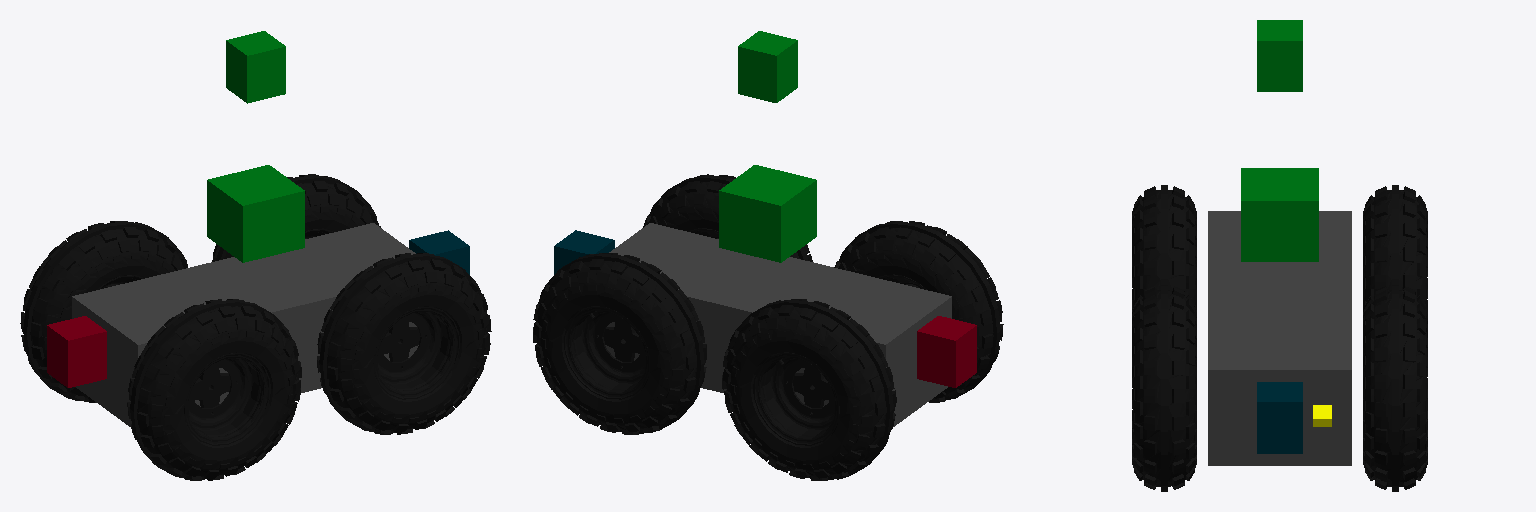
The robot description file, URDF, robot "teo":
<!--
~~~~~~~~~~~~~~~~~~~~~~~~~~~~~~~~~~~~~~~~~~~~~~~~~~~~~~~~~~~~~~~~~~~~~~~~~~~~~~~~
          TEO ROBOT URDF MODEL
~~~~~~~~~~~~~~~~~~~~~~~~~~~~~~~~~~~~~~~~~~~~~~~~~~~~~~~~~~~~~~~~~~~~~~~~~~~~~~~~
          Institut de Robotica i Informatica Industrial (IRI) UPC-CSIC
          author: mmorta
~~~~~~~~~~~~~~~~~~~~~~~~~~~~~~~~~~~~~~~~~~~~~~~~~~~~~~~~~~~~~~~~~~~~~~~~~~~~~~~~
  units: [m], [rad] (SI)
  constants:
  pi   = 3.14159
  pi/2 = 1.57079

  Basic Transformation Pro Engineer to URDF (If no coordinates changed)
    <origin xyz="0 0 0" rpy="1.57079 0 0"/>

  Basic Transformation SolidWorks to URDF
    <origin xyz="0 0 0" rpy="1.57079 0 0"/>
 -->

<robot name="teo"
    xmlns:sensor="http://playerstage.sourceforge.net/gazebo/xmlschema/#sensor"
    xmlns:controller="http://playerstage.sourceforge.net/gazebo/xmlschema/#controller"
    xmlns:interface="http://playerstage.sourceforge.net/gazebo/xmlschema/#interface">

<!-- BODY FOOTPRINT -->
  <!-- link -->
  <link name="base_footprint">
    <visual>
      <origin xyz="0 0 0" rpy="0 0 0"/>
      <geometry>
        <box size="0.01 0.01 0.01"/>
      </geometry>
    </visual>
<!-- gazebo (inertia, collision, material)-->
    <inertial>
      <origin xyz="0 0 0"/>
      <mass value="0.01" />
      <inertia  ixx="0.01" ixy="0.0"  ixz="0.0"  iyy="0.01"  iyz="0.0"  izz="0.01"/>
    </inertial>
    <collision>
      <!-- it has to be the same origin as the visual origin-->
      <origin xyz="0 0 0"/>
      <geometry>
        <!-- box containing the model -->
        <box size="0.01 0.01 0.01"/>
      </geometry>
    </collision>
  </link>


<!-- BODY
      a coordinates center has been added in the CAD model in order to not have
      to change rpy (ref_teo). It is in the middle of the model except the Z
      which is in the wheels' axes' Z
-->
  <!-- joint -->
  <joint name="base_footprint2base_link" type="fixed" >
    <parent link="base_footprint"/>
    <child link="base_link"/>
    <origin xyz="0 0 0.2667" rpy="0 0 0"/>
  </joint>
  <!-- link -->
  <link name="base_link">
    <visual>
      <origin xyz="0 0 0" rpy="0 0 3.14159"/>
      <geometry>
        <box size="0.97 0.37 0.27"/>
      </geometry>
      <material name="grey">
        <color rgba="0.3 0.3 .3 0.5"/>
      </material>
    </visual>
    <!-- gazebo (inertia, collision, material)-->
    <inertial>
      <origin xyz="0 0 0"/>
      <mass value="100.0" />
      <inertia  ixx="1.748" ixy="0.0"  ixz="0.0"  iyy="8.448"  iyz="0.0"  izz="8.982"/>
    </inertial>
    <collision>
      <!-- it has to be the same origin as the visual origin-->
      <origin xyz="0 0 0.1"/>
      <geometry>
        <!-- leaving some space extra -->
        <box size="1.40 0.45 0.5"/>
      </geometry>
      <material name="red">
        <color rgba="0.8 0.1 .1 0.5"/>
      </material>
    </collision>
  </link>
  <gazebo reference="body">
    <material>PR2/Grey3</material>
  </gazebo>

<!-- WHEEL FRONT LEFT
      It is already rotated in the real CAD file, so the rotation is not
      automatic.
      It is centered in 0, so its joint needs an offset XYZ
-->
  <!-- joint -->
  <joint name="base_link2wheel_fl" type="continuous" >
    <parent link="base_link"/>
    <child link="wheel_fl"/>
    <origin xyz="0.3039 0.2857 0.0" rpy="0 0 0"/>
    <axis xyz="0 1 0" />
  </joint>
  <!-- link -->
  <link name="wheel_fl">
    <visual>
      <origin xyz="0 0 0" rpy="0 0 0 "/>
      <geometry>
        <mesh filename="package://teo_base/model/meshes/rmp400_wheel_m.stl" />
      </geometry>
      <material name="dark_grey">
        <color rgba="0.1 0.1 0.1 1"/>
      </material>
    </visual>
    <inertial>
      <mass value="3.0" />
      <inertia  ixx="0.0529" ixy="0.0"  ixz="0.0"  iyy="0.09375"  iyz="0.0"  izz="0.0529"/>
    </inertial>
    <collision>
      <geometry>
        <cylinder length="0.20" radius="0.28"/>
      </geometry>
    </collision>
  </link>
  <gazebo reference="wheel_fl">
    <material>Gazebo/Black</material>
  </gazebo>

<!-- WHEEL FRONT RIGHT -->
  <!-- joint -->
  <joint name="base_link2wheel_fr" type="continuous" >
    <parent link="base_link"/>
    <child link="wheel_fr"/>
    <origin xyz="0.3039 -0.2857 0.0" rpy="0 0 3.14159"/>
    <axis xyz="0 1 0" />
  </joint>
  <!-- link -->
  <link name="wheel_fr">
    <visual>
      <origin xyz="0 0 0" rpy="0 0 0 "/>
      <geometry>
        <mesh filename="package://teo_base/model/meshes/rmp400_wheel_m.stl" />
      </geometry>
      <material name="dark_grey">
        <color rgba="0.1 0.1 0.1 1"/>
      </material>
    </visual>
    <inertial>
      <mass value="3.0" />
      <inertia  ixx="0.0529" ixy="0.0"  ixz="0.0"  iyy="0.09375"  iyz="0.0"  izz="0.0529"/>
    </inertial>
    <collision>
      <origin xyz="0 0 0" rpy="1.57079 0 0"/>
      <geometry>
        <cylinder length="0.20" radius="0.28"/>
      </geometry>
    </collision>
  </link>
  <gazebo reference="wheel_fr">
    <material>Gazebo/Black</material>
  </gazebo>

<!-- WHEEL BACK LEFT -->
  <!-- joint -->
  <joint name="base_link2wheel_bl" type="continuous" >
    <parent link="base_link"/>
    <child link="wheel_bl"/>
    <origin xyz="-0.3039 0.2857 0.0" rpy="0 0 0"/>
    <axis xyz="0 1 0" />
  </joint>
  <!-- link -->
  <link name="wheel_bl">
    <visual>
      <origin xyz="0 0 0" rpy="0 0 0 "/>
      <geometry>
        <mesh filename="package://teo_base/model/meshes/rmp400_wheel_m.stl" />
      </geometry>
      <material name="dark_grey">
        <color rgba="0.1 0.1 0.1 1"/>
      </material>
    </visual>
    <inertial>
      <mass value="3.0" />
      <inertia  ixx="0.0529" ixy="0.0"  ixz="0.0"  iyy="0.09375"  iyz="0.0"  izz="0.0529"/>
    </inertial>
    <collision>
      <origin xyz="0 0 0" rpy="1.57079 0 0"/>
      <geometry>
        <cylinder length="0.20" radius="0.28"/>
      </geometry>
    </collision>
  </link>
  <gazebo reference="wheel_bl">
    <material>Gazebo/Black</material>
  </gazebo>

<!-- WHEEL BACK RIGHT -->
  <!-- joint -->
  <joint name="base_link2wheel_br" type="continuous" >
    <parent link="base_link"/>
    <child link="wheel_br"/>
    <origin xyz="-0.3039 -0.2857 0.0" rpy="0 0 3.14159"/>
    <axis xyz="0 1 0" />
  </joint>
  <!-- link -->
  <link name="wheel_br">
    <visual>
      <origin xyz="0 0 0" rpy="0 0 0 "/>
      <geometry>
        <mesh filename="package://teo_base/model/meshes/rmp400_wheel_m.stl" />
      </geometry>
      <material name="dark_grey">
        <color rgba="0.1 0.1 0.1 1"/>
      </material>
    </visual>
    <inertial>
      <mass value="3.0" />
      <inertia  ixx="0.0529" ixy="0.0"  ixz="0.0"  iyy="0.09375"  iyz="0.0"  izz="0.0529"/>
    </inertial>
    <collision>
      <origin xyz="0 0 0" rpy="1.57079 0 0"/>
      <geometry>
        <cylinder length="0.20" radius="0.28"/>
      </geometry>
    </collision>
  </link>
  <gazebo reference="wheel_br">
    <material>Gazebo/Black</material>
  </gazebo>


  <!-- FRONT LASER-->
  <!-- joint -->
  <joint name="base_link2front_laser" type="fixed" >
    <parent link="base_link"/>
    <child link="front_laser"/>
    <!--
    x = 0.435 (long box=0.870) + 0.155 (position in frame)
    y = 0
    z = 0.05 (laser position, cc_teo->bottom laser)
    -->
    <origin xyz="0.590 0 0.05" rpy="0 0 0"/>
  </joint>
  <!-- link -->
  <link name="front_laser">
    <visual>
      <!-- from STL origin to real sensor origin 0.0625-->
      <origin xyz="0 0 0" rpy="0 0 0"/>
      <geometry>
        <box size="0.125 0.120 0.146"/>
      </geometry>
      <material name="blue_navy">
        <color rgba="0.0 0.2 0.25 0.5"/>
      </material>
    </visual>
    <inertial>
      <mass value="0.800" />
      <inertia  ixx="0.00238" ixy="0.0"  ixz="0.0"  iyy="0.00246"  iyz="0.0"  izz="0.00200"/>
    </inertial>
    <collision>
      <origin xyz="0 0 0" rpy="0 0 0"/>
      <geometry>
        <box size="0.125 0.120 0.146"/>
      </geometry>
    </collision>
  </link>
  <gazebo reference="front_laser">
    <material>Gazebo/Blue</material>
  </gazebo>


  <!-- REAR LASER-->
  <!-- joint -->
  <joint name="base_link2rear_laser" type="fixed" >
    <parent link="base_link"/>
    <child link="rear_laser"/>
    <!--
    x = 0.435 (long box=0.870) + 0.95 (position in frame)
    y = 0
    z = 0.06 (laser position, cc_teo->bottom laser)
    -->
    <origin xyz="-0.575 0 0.06" rpy="0 0 3.14159"/>
  </joint>
  <!-- link -->
  <link name="rear_laser">
    <visual>
      <!-- from STL origin to real sensor origin -->
      <origin xyz="0 0 0" rpy="0 0 0"/>
      <geometry>
        <box size="0.125 0.120 0.146"/>
      </geometry>
      <material name="red_navy">
        <color rgba="0.5 0.0 0.1 0.5"/>
      </material>
    </visual>
    <inertial>
      <mass value="0.800" />
      <inertia  ixx="0.00238" ixy="0.0"  ixz="0.0"  iyy="0.00246"  iyz="0.0"  izz="0.00200"/>
    </inertial>
    <collision>
      <origin xyz="0 0 0" rpy="0 0 0"/>
      <geometry>
        <box size="0.125 0.120 0.146"/>
      </geometry>
    </collision>
  </link>
  <gazebo reference="rear_laser">
    <material>Gazebo/Red</material>
  </gazebo>


  <!-- H3D LASER-->
  <!-- joint -->
  <joint name="base_link2h3d" type="fixed" >
    <parent link="base_link"/>
    <child link="h3d"/>
    <!-- position of the center of the sensor! -->
    <origin xyz="0 0 0.8" rpy="0 0 0"/>
  </joint>
  <!-- link -->
  <link name="h3d">
    <visual>
      <!-- from STL origin to real sensor origin -->
      <origin xyz="0 0 0" rpy="0 0 0"/>
      <geometry>
        <box size="0.125 0.120 0.146"/>
      </geometry>
      <material name="green">
        <color rgba="0.0 0.5 0.1 0.5"/>
      </material>
    </visual>
    <inertial>
      <mass value="8.0" />
      <inertia  ixx="0.04113" ixy="0.0"  ixz="0.0"  iyy="0.04113"  iyz="0.0"  izz="0.04813"/>
    </inertial>
    <collision>
      <origin xyz="0 0 0" rpy="0 0 0"/>
      <geometry>
        <box size="0.125 0.120 0.146"/>
      </geometry>
    </collision>
  </link>
  <joint name="h3dsuport" type="fixed" >
    <parent link="h3d"/>
    <child link="h3d_suport"/>
    <!-- position of the center of the sensor! -->
    <origin xyz="0 0 -0.45" rpy="0 0 0"/>
  </joint>
  <!-- link -->
  <link name="h3d_suport">
    <visual>
      <!-- from STL origin to real sensor origin -->
      <origin xyz="0 0 0" rpy="0 0 0"/>
      <geometry>
        <box size="0.2 0.2 0.175" />
      </geometry>
      <material name="green">
        <color rgba="0.0 0.5 0.1 0.5"/>
      </material>
    </visual>
    <inertial>
      <mass value="2.0" />
      <inertia  ixx="0.01" ixy="0.0"  ixz="0.0"  iyy="0.01"  iyz="0.0"  izz="0.01"/>
    </inertial>
    <collision>
      <origin xyz="0 0 0" rpy="0 0 0"/>
      <geometry>
        <box size="0.2 0.2 0.175" />
      </geometry>
    </collision>
  </link>
  <gazebo reference="h3d">
    <material>Gazebo/Green</material>
  </gazebo>
  <gazebo reference="h3d_suport">
    <material>Gazebo/Green</material>
  </gazebo>




  <!-- FLOOR LASER-->
  <!-- joint -->
  <joint name="base_link2floor_laser" type="fixed" >
    <parent link="base_link"/>
    <child link="floor_laser"/>->
    <origin xyz="0.475 0.11 0" rpy="3.14159 0.69813 0"/>
  </joint>
  <!-- link -->
  <link name="floor_laser">
    <visual>
      <!-- from STL origin to real sensor origin -->
      <origin xyz="0 0 0" rpy="0 0 0"/>
      <geometry>
        <box size="0.050 0.050 0.070"/>
      </geometry>
      <material name="yellow">
        <color rgba="1 1 0.0 1"/>
      </material>
    </visual>
    <inertial>
      <mass value="0.141" />
      <inertia  ixx="0.0001" ixy="0.0"  ixz="0.0"  iyy="0.0001"  iyz="0.0"  izz="0.0001"/>
    </inertial>
    <collision>
      <origin xyz="-0.034 0.0 -0.04" rpy="0 0 0"/>
      <geometry>
        <box size="0.050 0.050 0.070"/>
      </geometry>
    </collision>
  </link>
  <gazebo reference="floor_laser">
    <material>Gazebo/Yellow</material>
  </gazebo>


  <gazebo>
    <controller:teo_plugin name="teo_driver" plugin="libteo_plugin.so">
      <alwaysOn>true</alwaysOn>
      <update>100</update>
      <updateRate>50.0</updateRate>
      <fr_joint>base_link2wheel_fr</fr_joint>
      <fl_joint>base_link2wheel_fl</fl_joint>
      <br_joint>base_link2wheel_br</br_joint>
      <bl_joint>base_link2wheel_bl</bl_joint>
      <interface:position name="position_iface_0"/>
      <robotNamespace>/</robotNamespace>
      <topicName>cmd_vel</topicName>
    </controller:teo_plugin>
  </gazebo>


</robot>

--- What the picture shows (computed from the rendered views, not written in the file) ---
Views: 3 orthographic renders of the robot side by side, from view 1: azimuth 30°, elevation 25°; view 2: azimuth 150°, elevation 25°; view 3: azimuth 270°, elevation 25°.
Robot: teo — 11 links, 10 joints (4 continuous, 6 fixed); root link base_footprint; default pose: all joints at 0.
Visible links, largest first — view 1: wheel_br, wheel_fr, base_link, wheel_bl, h3d_suport, h3d, rear_laser, wheel_fl, front_laser; view 2: wheel_bl, wheel_fl, base_link, wheel_br, h3d_suport, rear_laser, h3d, wheel_fr, front_laser; view 3: base_link, wheel_fl, wheel_fr, h3d_suport, wheel_bl, wheel_br, front_laser, h3d.
Boxes of the visible links, x1,y1,x2,y2 form: wheel_br: (127, 299, 301, 480); wheel_fr: (317, 253, 491, 434); base_link: (72, 223, 418, 426); wheel_bl: (20, 221, 187, 402); h3d_suport: (207, 165, 304, 262); h3d: (226, 31, 285, 103); rear_laser: (47, 316, 106, 387); wheel_fl: (212, 174, 380, 261); front_laser: (409, 230, 469, 274); wheel_bl: (722, 299, 896, 480); wheel_fl: (533, 253, 706, 434); base_link: (605, 223, 951, 426); wheel_br: (834, 221, 1003, 402); h3d_suport: (719, 165, 816, 262); rear_laser: (917, 316, 976, 387); h3d: (738, 31, 797, 102); wheel_fr: (643, 174, 812, 261); front_laser: (554, 230, 614, 274); base_link: (1208, 211, 1351, 465); wheel_fl: (1363, 285, 1427, 491); wheel_fr: (1132, 285, 1196, 491); h3d_suport: (1241, 168, 1318, 261); wheel_bl: (1363, 185, 1427, 310); wheel_br: (1132, 185, 1196, 310); front_laser: (1257, 382, 1302, 453); h3d: (1257, 20, 1302, 91).
Bounding box of the posed robot: 1.29 × 0.7627 × 1.14 m (x, y, z).
Meshes: 1 distinct files referenced, 4 mesh visuals loaded (1 binary STL).
